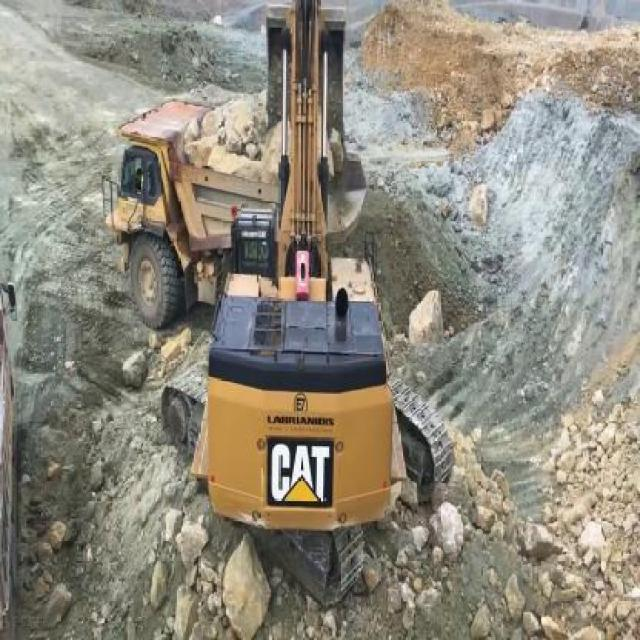Dump Truck: (107, 91, 376, 327)
Excavator: (158, 0, 456, 638)
